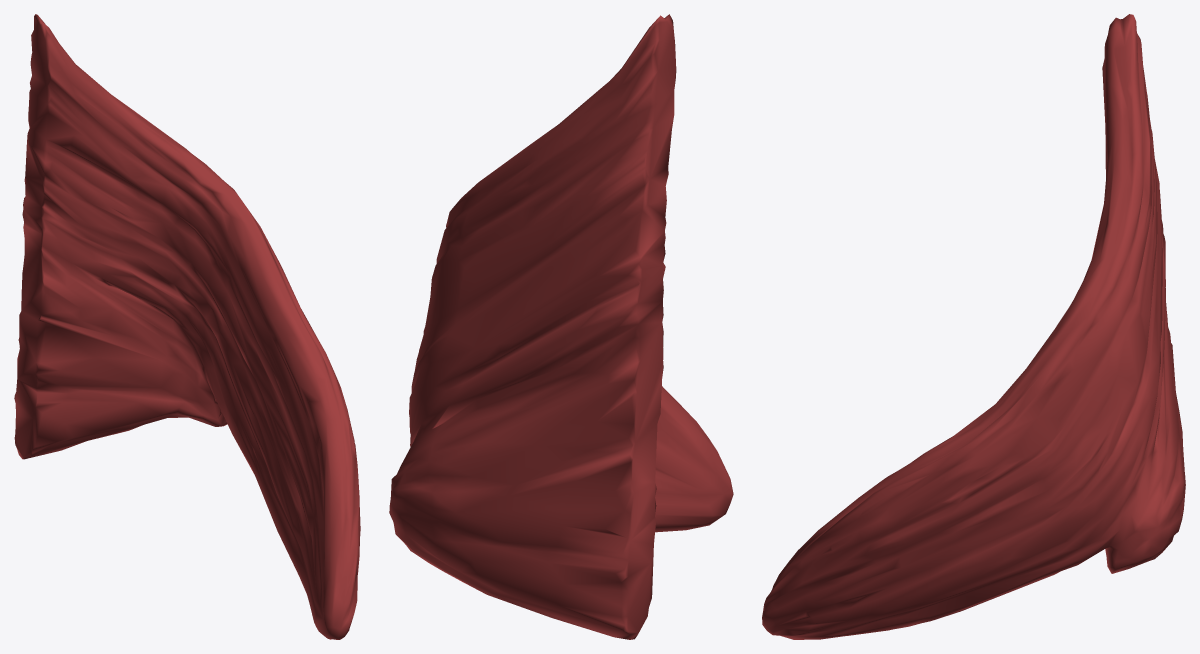
File: middle-pharyngeal-constrictor-l.glb
3 renders of one model, left to right at view 1: azimuth 30°, elevation 25°; view 2: azimuth 150°, elevation 25°; view 3: azimuth 270°, elevation 25°, orthographic. The views are drawn at different scales.
Parts seen in each view (by area): view 1: Middle pharyngeal constrictor.l; view 2: Middle pharyngeal constrictor.l; view 3: Middle pharyngeal constrictor.l.
Part boxes in pixels (x1,y1,x2,y2): Middle pharyngeal constrictor.l: [14, 14, 360, 639]; Middle pharyngeal constrictor.l: [389, 14, 733, 639]; Middle pharyngeal constrictor.l: [762, 14, 1185, 639].
Size of the model in its own units: 0.0188 by 0.0458 by 0.0316.
